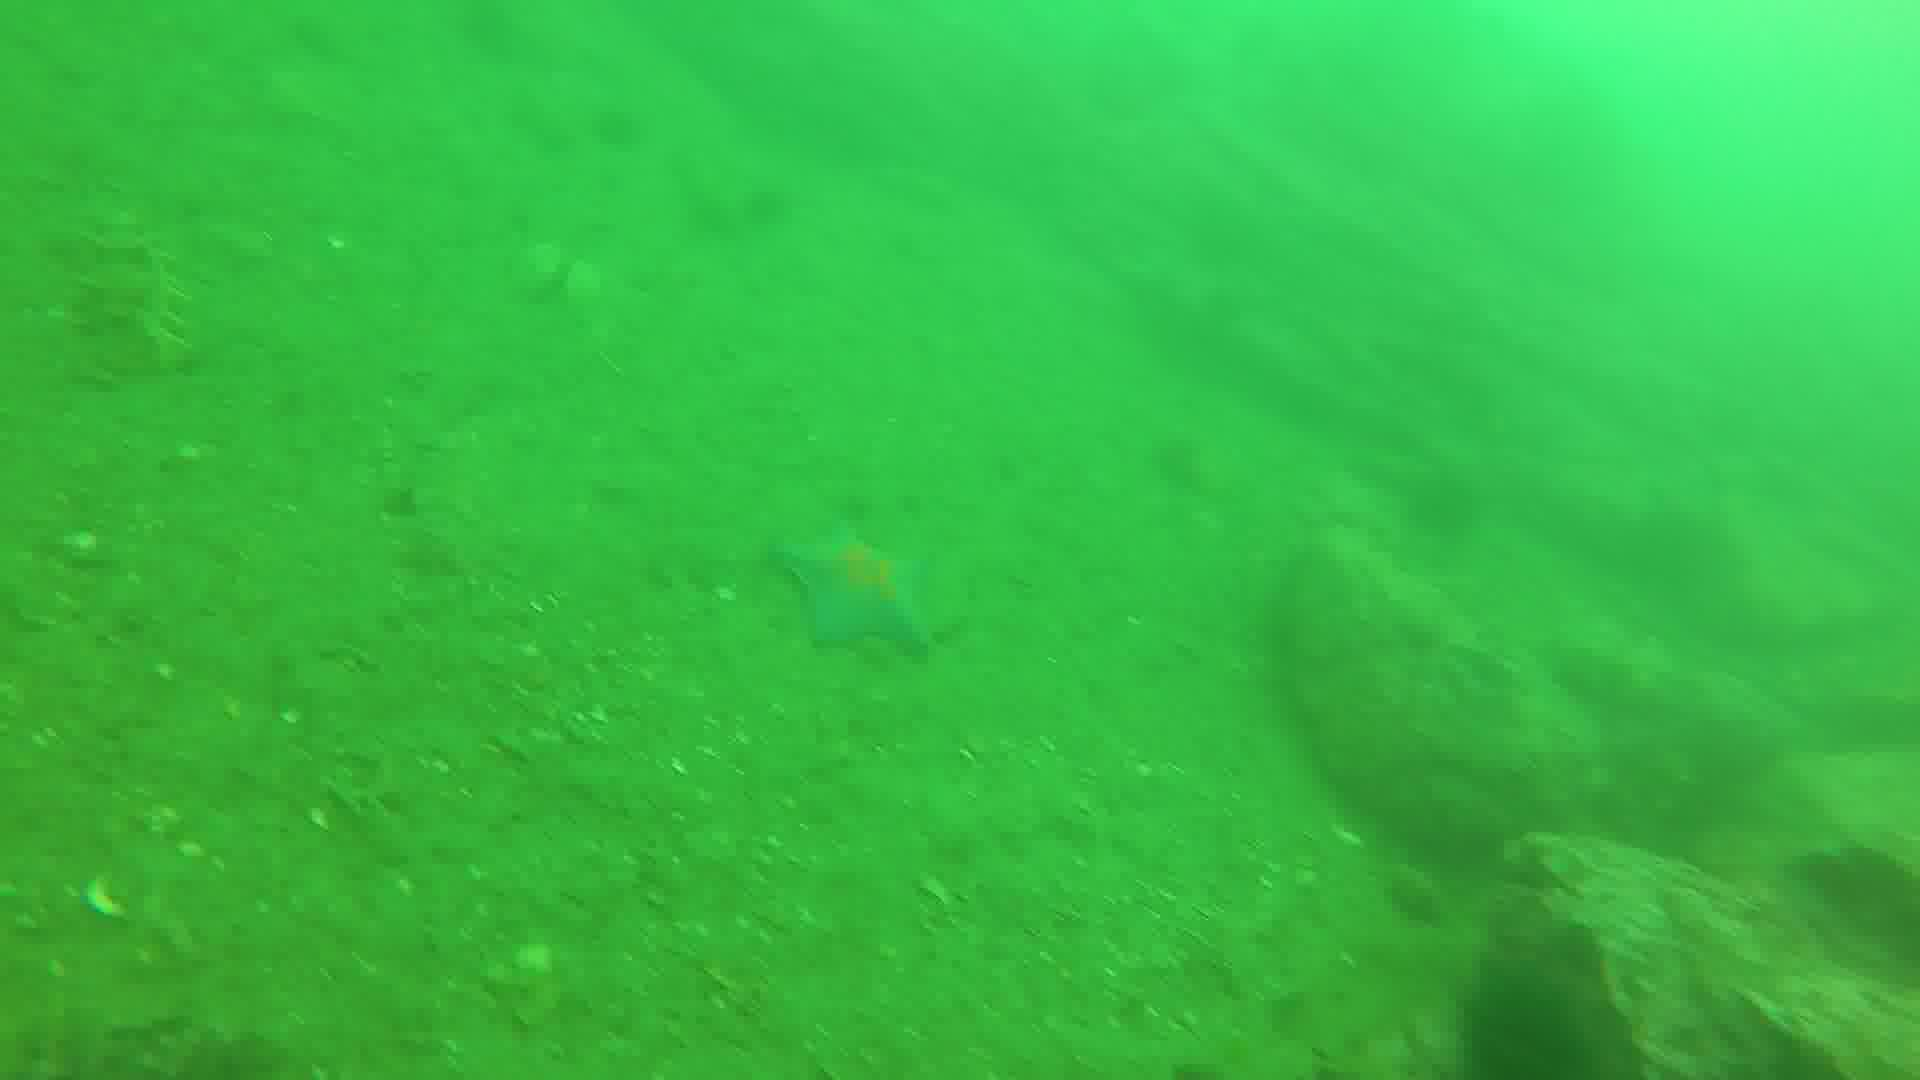holothurian: (58, 207, 191, 375)
starfish: (781, 520, 939, 650)
